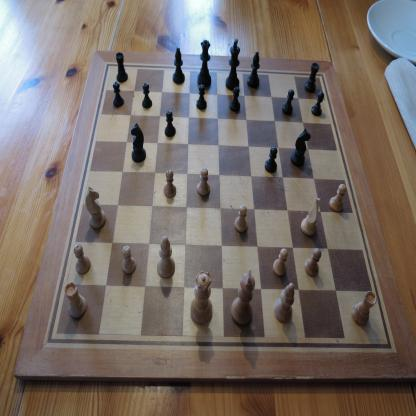black-bishop: (172, 46, 185, 84), (247, 50, 260, 88)
black-king: (226, 38, 240, 91)
black-knight: (290, 128, 311, 167), (130, 123, 146, 163)
black-pawn: (264, 146, 278, 173), (112, 82, 125, 108), (282, 89, 295, 115), (311, 91, 324, 117), (164, 110, 176, 138), (229, 86, 241, 112), (196, 84, 207, 110), (142, 82, 152, 109)
black-queen: (197, 40, 211, 88)
black-rook: (304, 62, 320, 93), (115, 52, 128, 82)
white-bishop: (273, 282, 295, 323), (157, 236, 175, 278)
white-king: (231, 268, 256, 326)
white-knight: (85, 186, 106, 230), (300, 197, 321, 237)
white-pawn: (74, 244, 92, 274), (304, 247, 322, 277), (328, 184, 346, 212), (272, 248, 288, 277), (122, 245, 136, 275), (163, 169, 177, 198), (234, 204, 248, 233), (196, 168, 210, 196)
white-queen: (190, 270, 213, 324)
white-rook: (351, 291, 377, 326), (64, 280, 87, 319)
